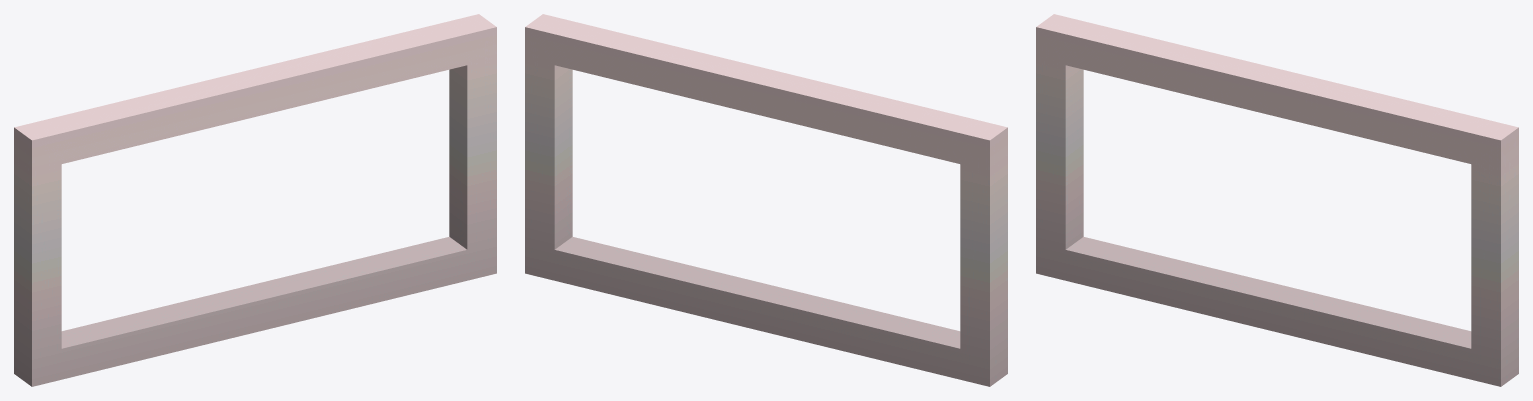
Rendered from cc0_window_white.glb.
3 views of the same model, side by side, from view 1: azimuth 30°, elevation 25°; view 2: azimuth 150°, elevation 25°; view 3: azimuth 330°, elevation 25° (orthographic).
Parts seen in each view (by area): view 1: window-white-wide; view 2: window-white-wide; view 3: window-white-wide.
Part boxes in pixels (box(x1,y1,x2,y2)): window-white-wide: box(14, 14, 496, 386); window-white-wide: box(525, 14, 1007, 386); window-white-wide: box(1036, 14, 1518, 386).
Bounding box in the file's own units: 0.75 × 0.38 × 0.05.
1 material, 1 textured.
